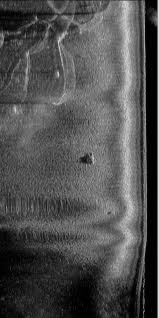man: (85, 150, 96, 166)
